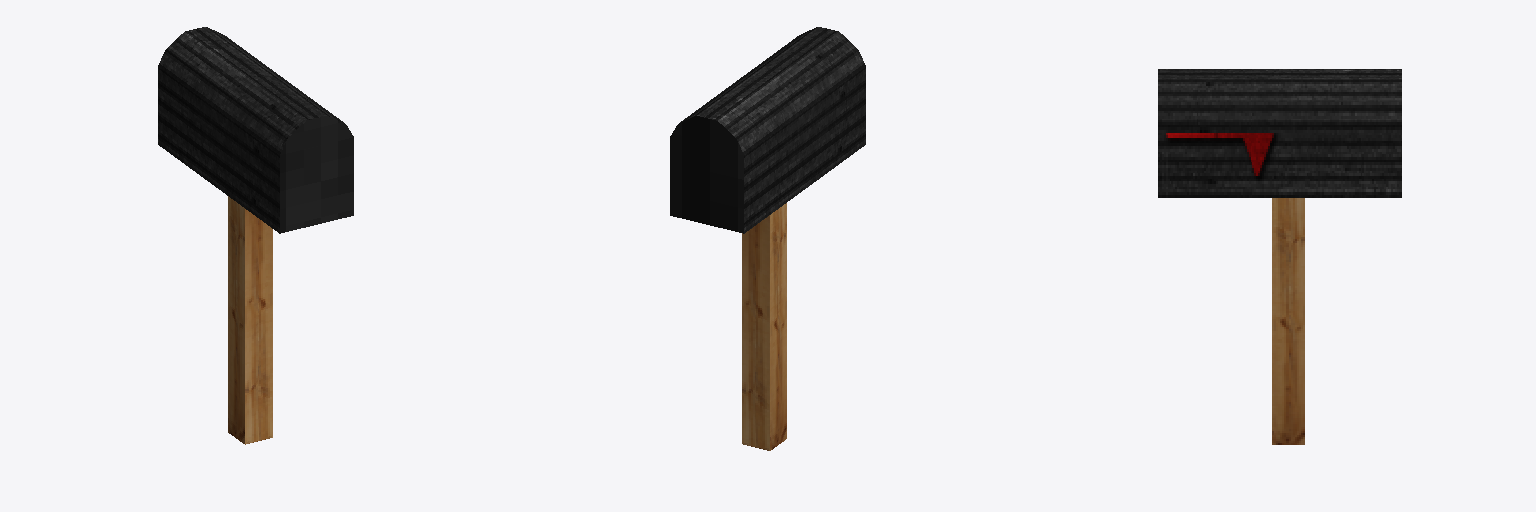
3 renders of one model, left to right at view 1: azimuth 30°, elevation 25°; view 2: azimuth 150°, elevation 25°; view 3: azimuth 270°, elevation 25°, orthographic.
Bounding box in the file's own units: 0.6 × 2.8 × 1.7.
Materials: 1 (1 with a texture image).